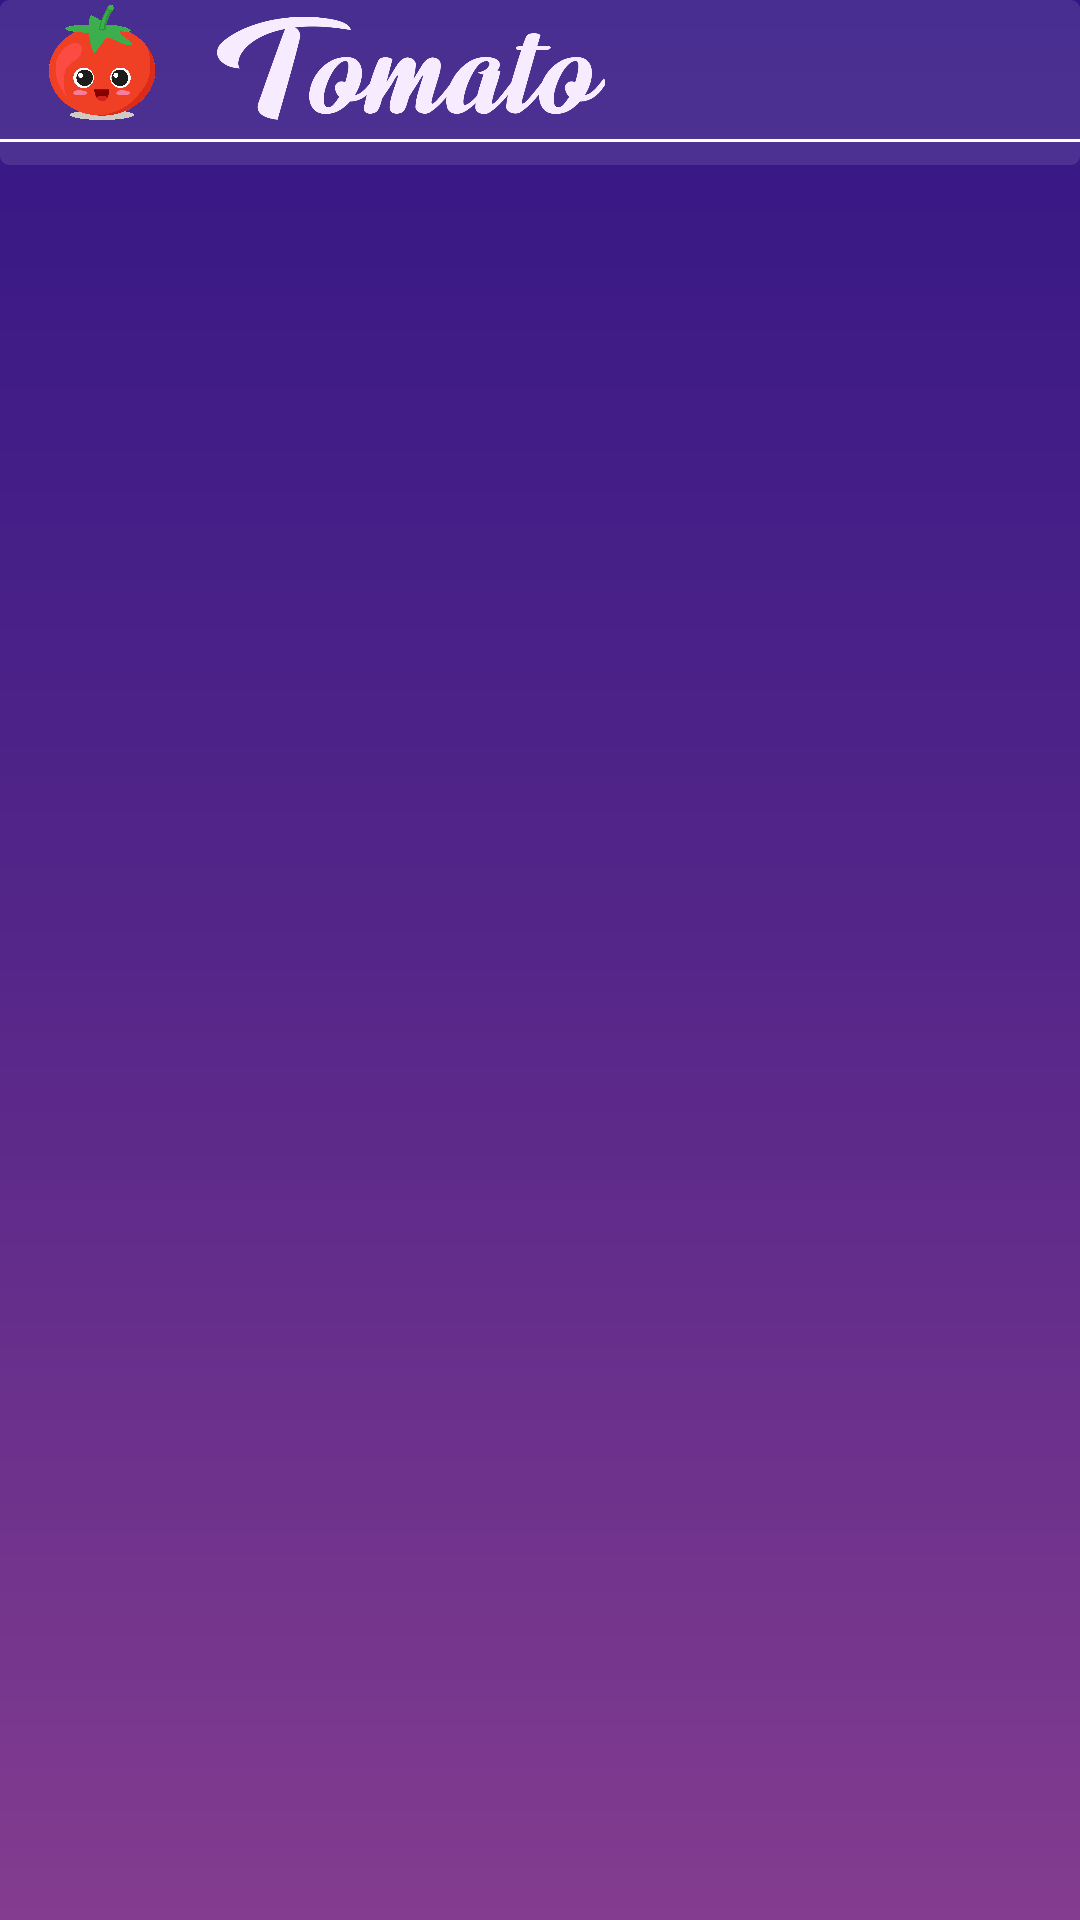

Screen size 1080w x 1920h. Icon name, then its box in pixels as (x1, y1, x2, y2):
tomato: (49, 5, 155, 120)
